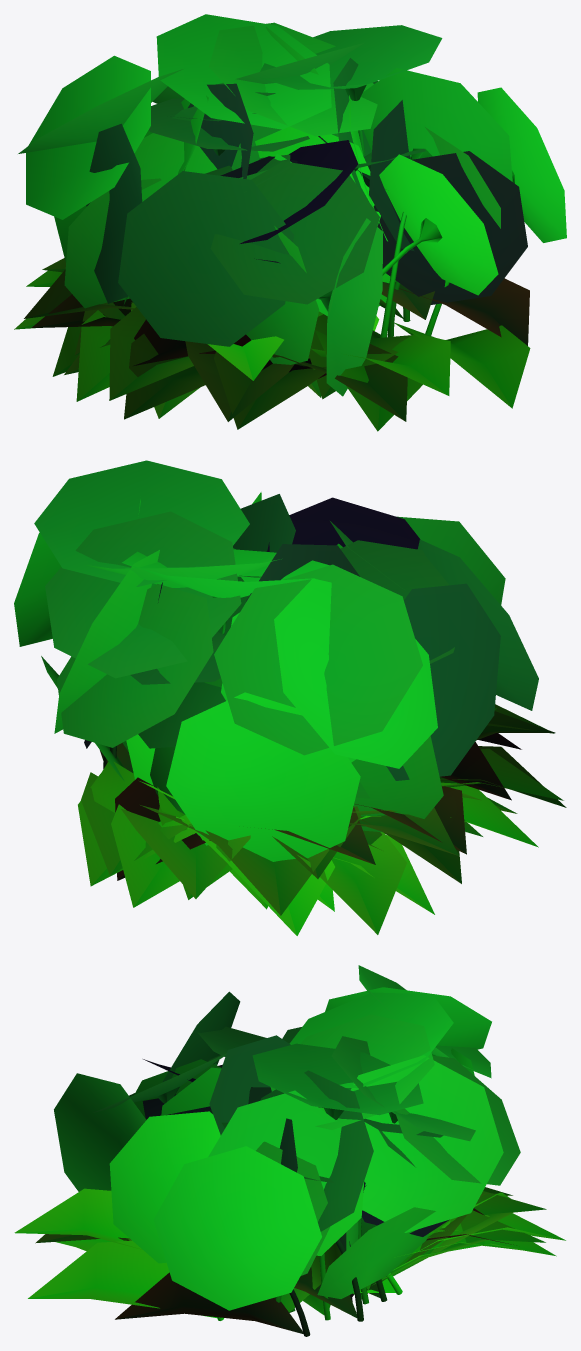
File: mv_FlowerF.fbx
3 renders of one model, top to bottom at view 1: azimuth 30°, elevation 25°; view 2: azimuth 150°, elevation 25°; view 3: azimuth 270°, elevation 25°, orthographic. The views are drawn at different scales.
Parts seen in each view (by area): view 1: FlowerF_LOD0; view 2: FlowerF_LOD0; view 3: FlowerF_LOD0.
Part boxes in pixels (box(x1,y1,x2,y2)): FlowerF_LOD0: box(14, 14, 566, 431); FlowerF_LOD0: box(14, 460, 566, 935); FlowerF_LOD0: box(14, 965, 565, 1336).
Size of what is drawn, in the model's own units: 26.23 by 15.92 by 29.46.
